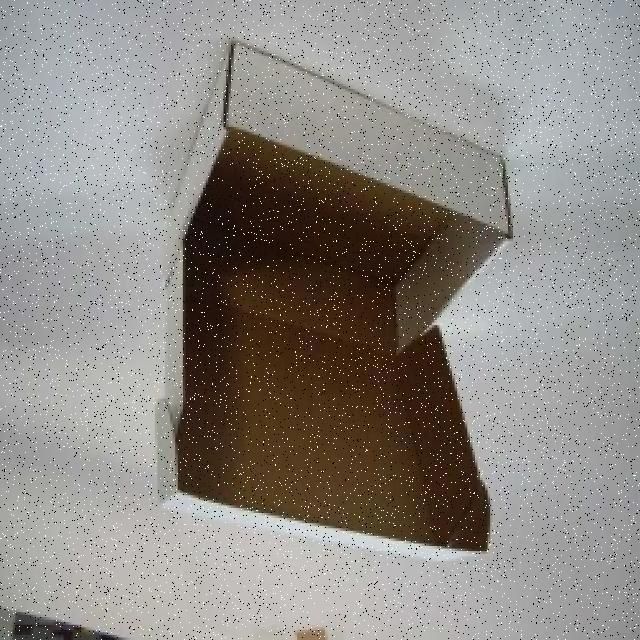box: (118, 19, 524, 582)
